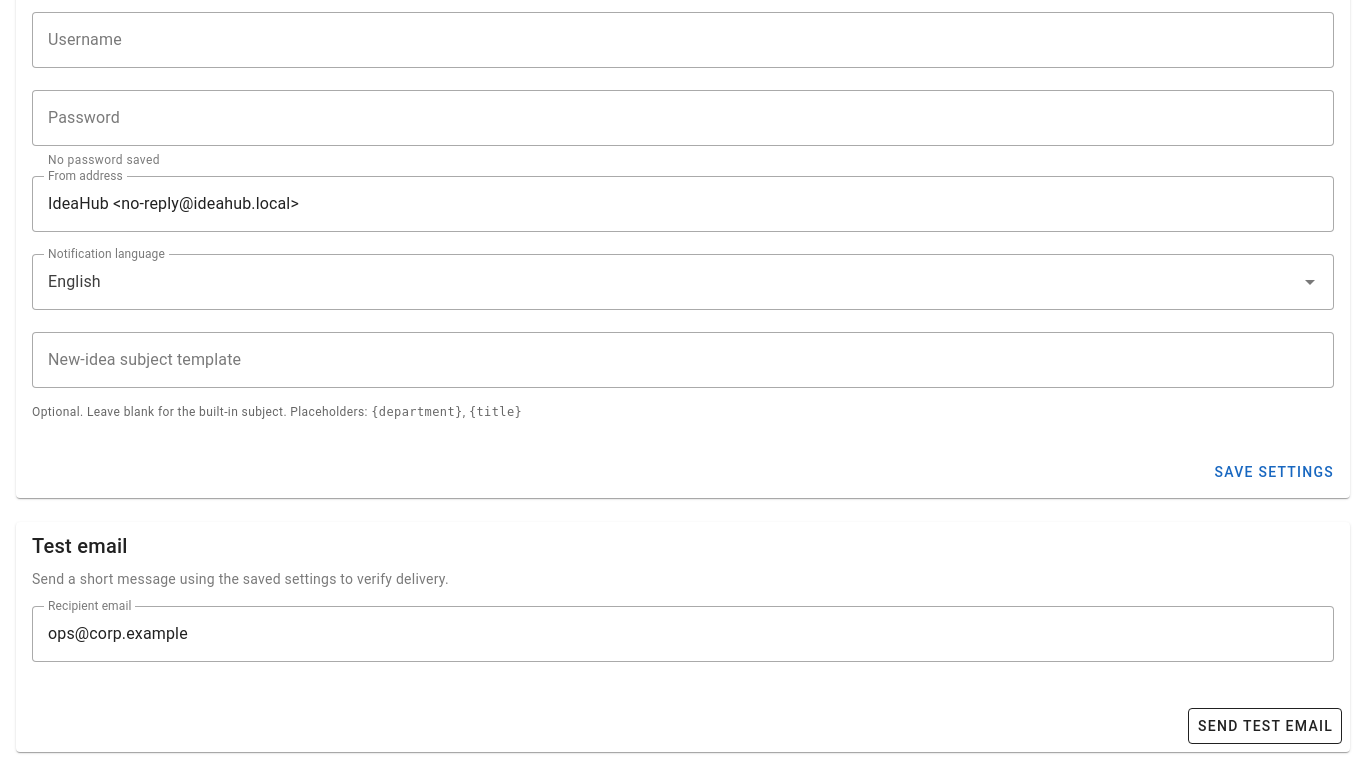
Test: MailSettingsPage › surfaces a failed test send with the reason-specific message (auth_failed)
This screenshot has width=1366, height=760.
(page scrolled)
Click the button "Send test email": (1265,726) [1188,708,1342,744]
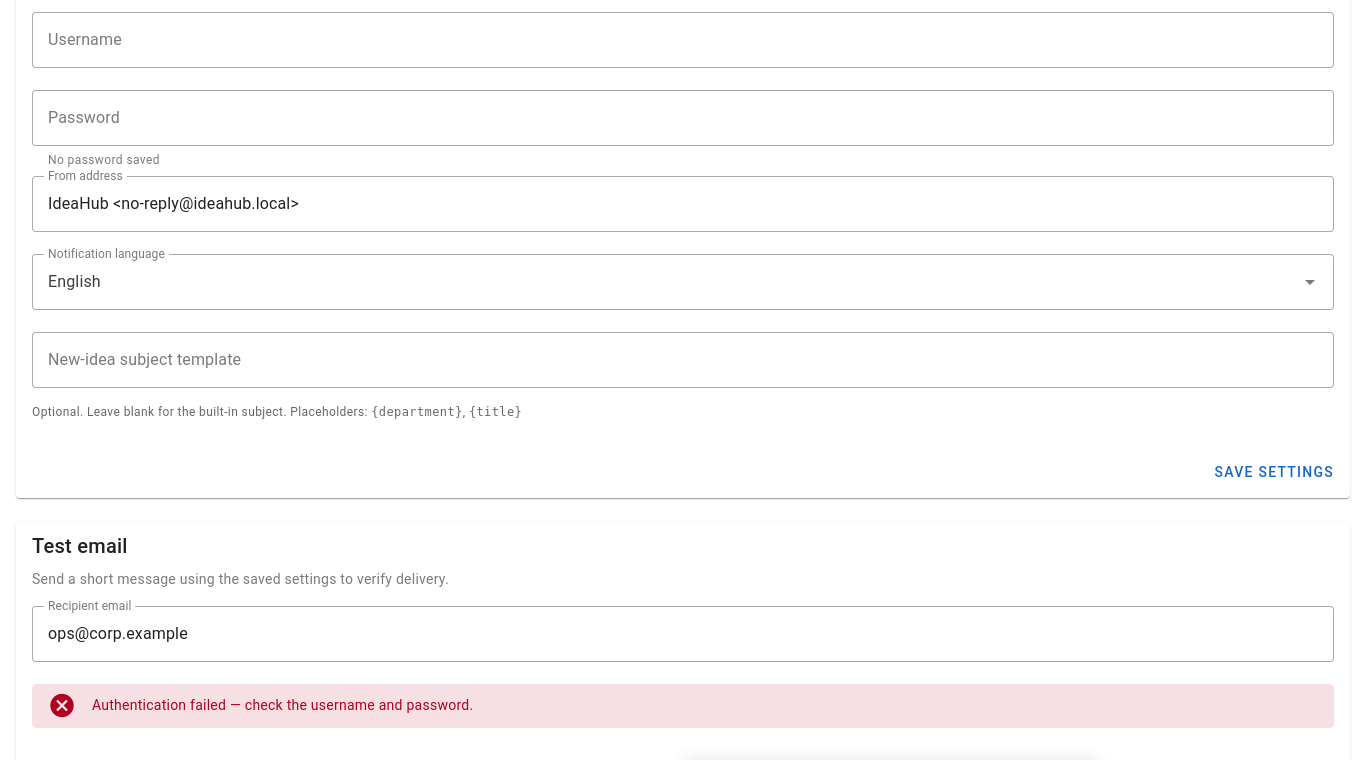
Now the text "Authentication failed" is shown, box [92,697,473,713]
